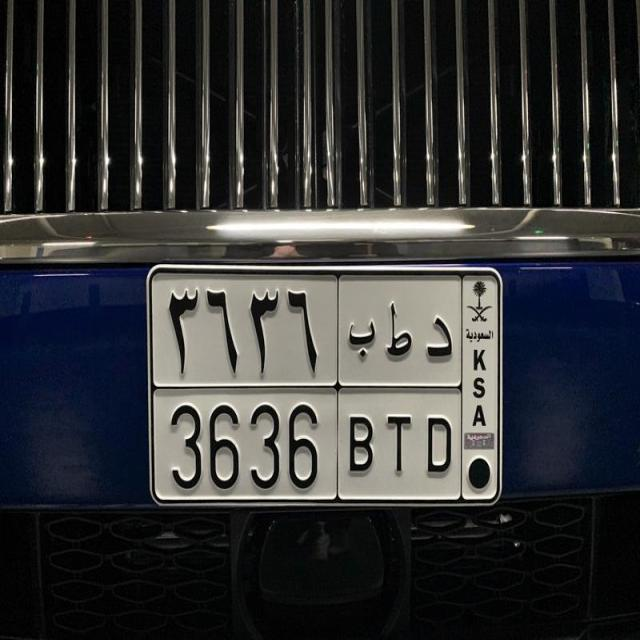license_plate: (135, 256, 506, 518)
